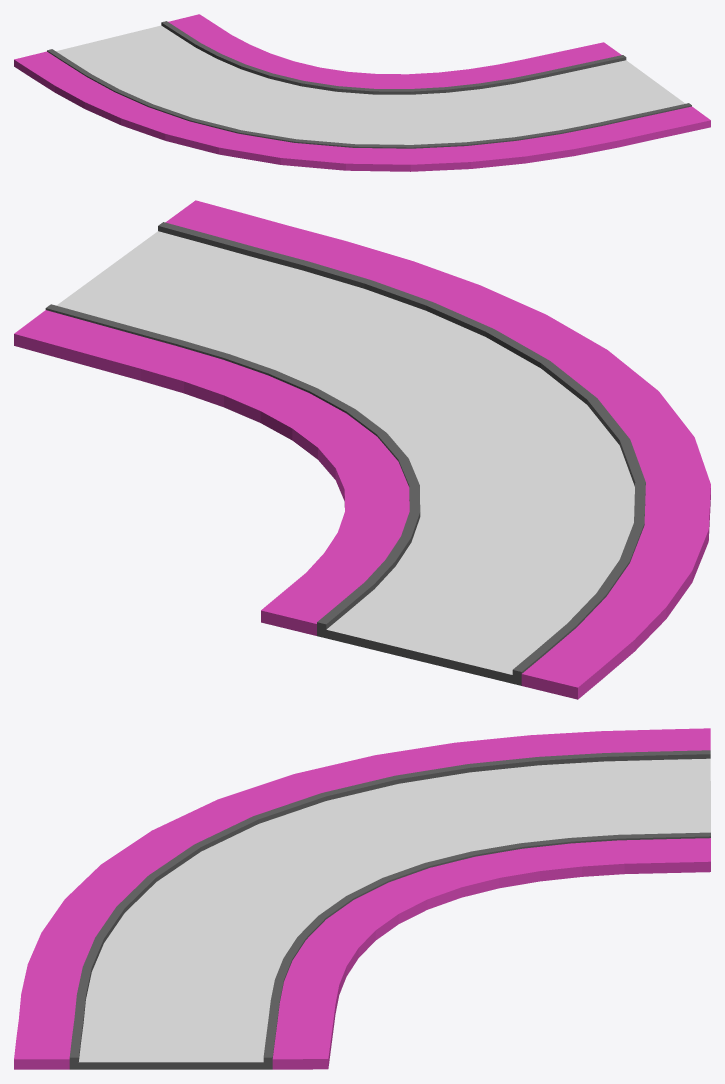
3 renders of one model, top to bottom at view 1: azimuth 30°, elevation 25°; view 2: azimuth 150°, elevation 25°; view 3: azimuth 270°, elevation 25°, orthographic. The views are drawn at different scales.
Parts seen in each view (by area): view 1: Cube.001; view 2: Cube.001; view 3: Cube.001.
Boxes of the visible parts, bbox=[...] form: Cube.001: bbox=[14, 14, 710, 171]; Cube.001: bbox=[14, 200, 710, 699]; Cube.001: bbox=[14, 728, 710, 1069].
Size of the model in its own units: 36290 by 618 by 32300.
